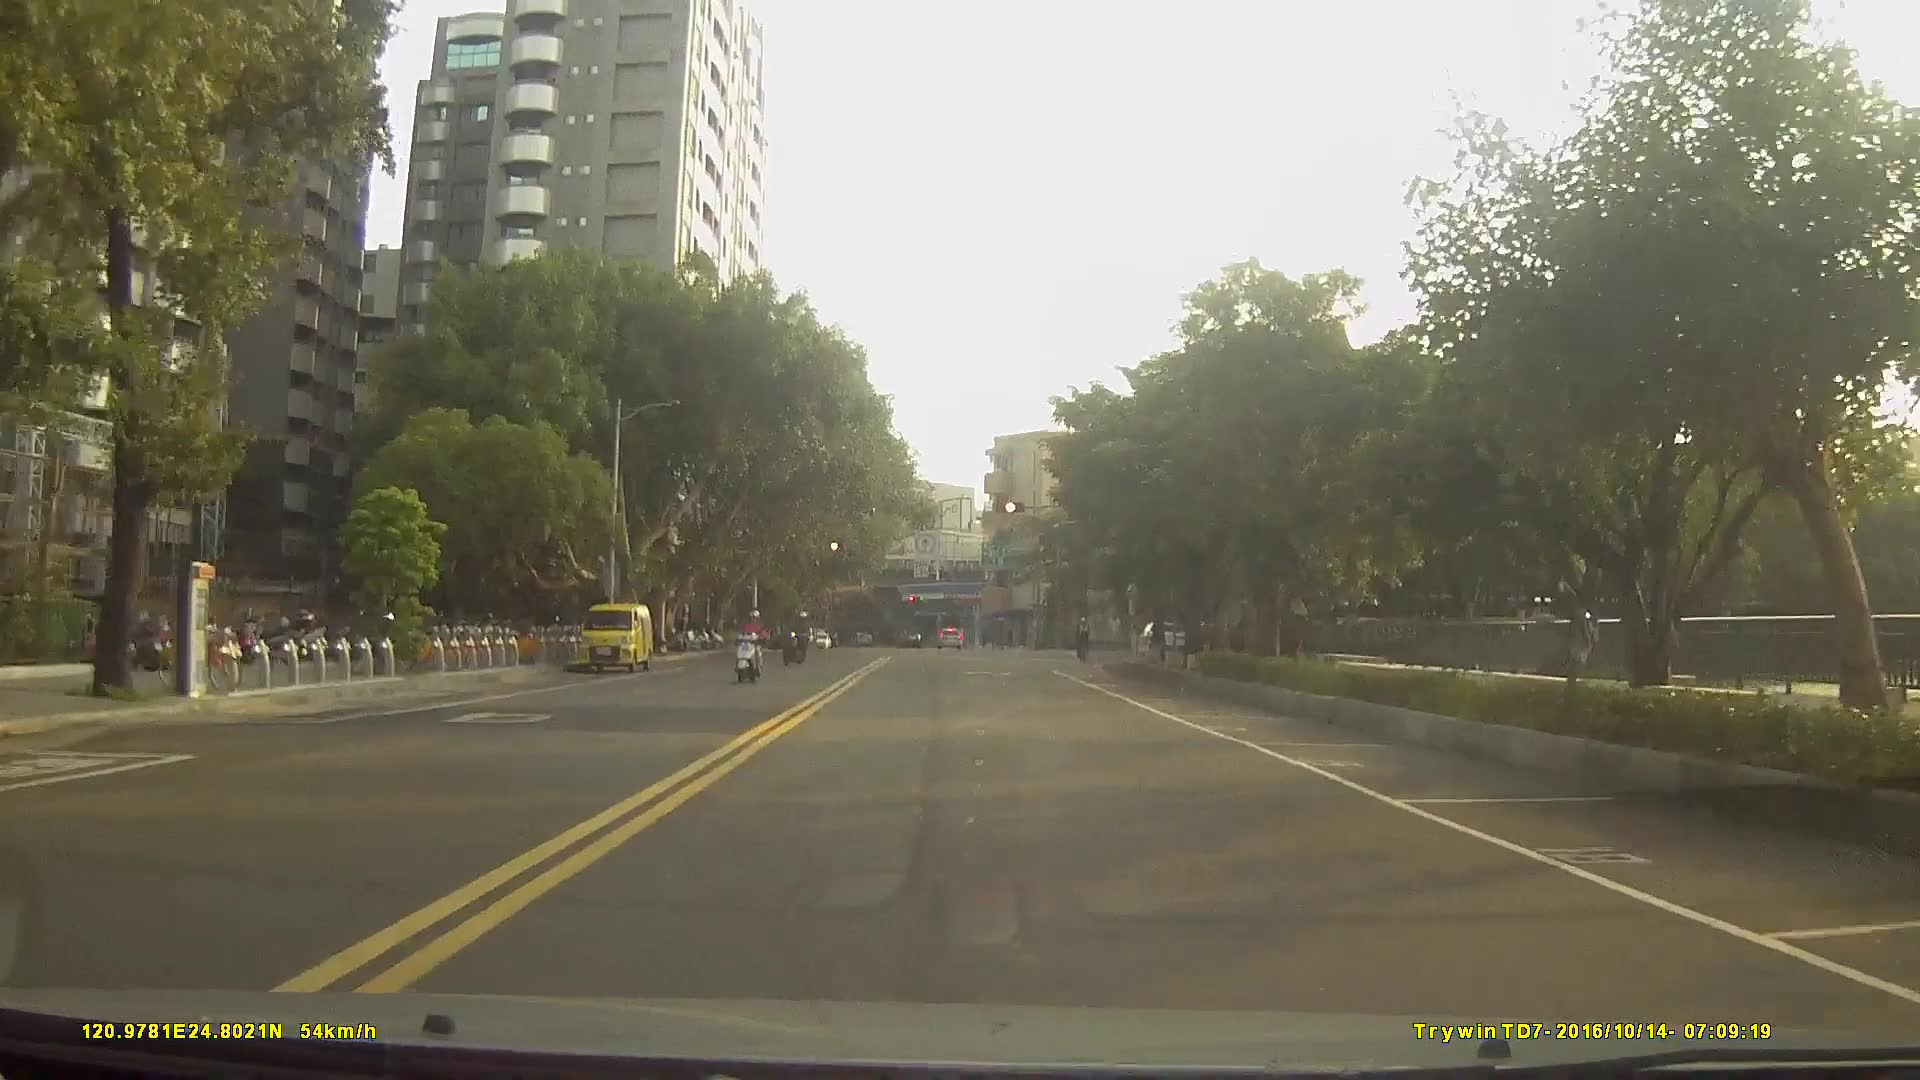pedestrian: (1106, 614, 1126, 656)
rider: (732, 611, 775, 690), (782, 612, 813, 672), (1073, 619, 1095, 669)
vehicle: (935, 625, 964, 651)
